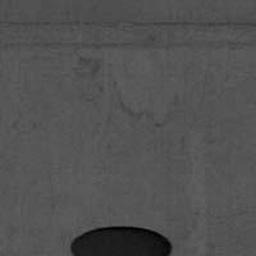Punching: (69, 227, 174, 256)
